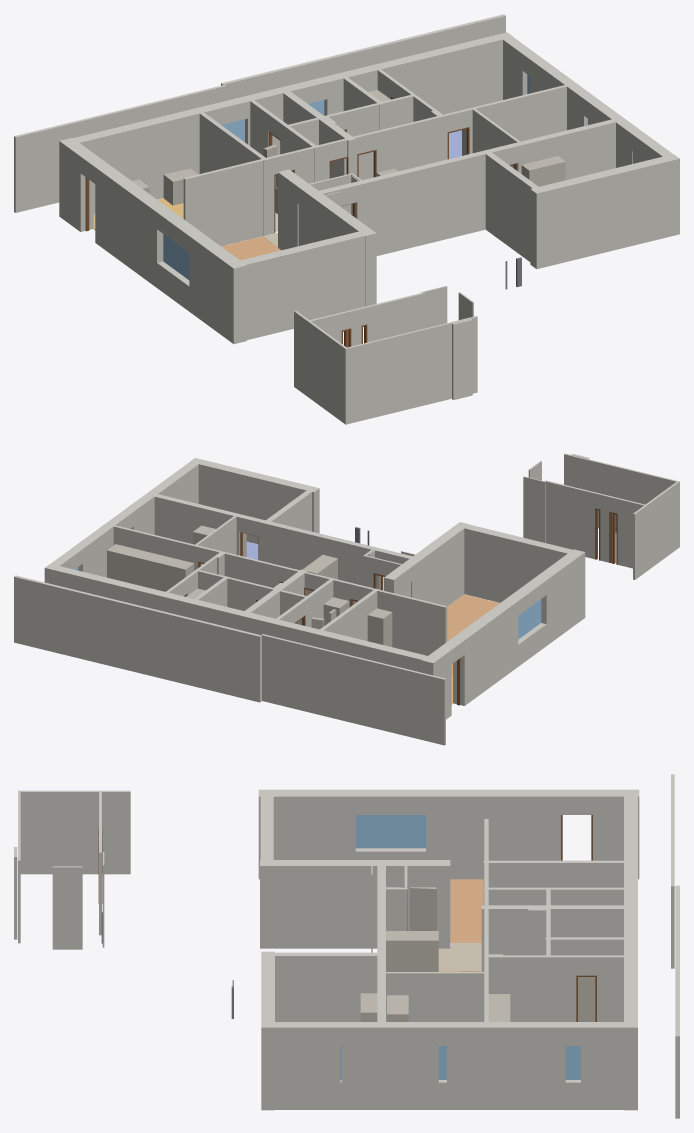
The picture shows the model from 3 angles, top to bottom: view 1: azimuth 30°, elevation 25°; view 2: azimuth 150°, elevation 25°; view 3: azimuth 270°, elevation 25°; orthographic projection. The views are drawn at different scales.
Parts seen in each view (by area): view 1: walls, furniture_12_closet, floor_1_Living_Room, window_9, furniture_19_sink; view 2: walls, furniture_7_closet, floor_1_Living_Room, furniture_5_closet, furniture_8_closet, window_9; view 3: walls, window_9, furniture_8_closet, floor_1_Living_Room, floor_2_Entry, furniture_9_closet, furniture_0_closet, furniture_7_closet, furniture_10_closet, window_10, furniture_12_closet.
Part boxes in pixels (x1,y1,x2,y2): walls: (14,14,679,424); furniture_12_closet: (521,156,565,186); floor_1_Living_Room: (221,236,280,260); window_9: (163,234,189,279); furniture_19_sink: (163,168,197,205); walls: (14,453,679,745); furniture_7_closet: (107,544,194,591); floor_1_Living_Room: (447,594,499,675); furniture_5_closet: (367,608,392,646); furniture_8_closet: (302,554,337,595); window_9: (518,599,541,639); walls: (14,774,679,1118); window_9: (355,815,425,848); furniture_8_closet: (386,931,438,971); floor_1_Living_Room: (450,879,483,942); floor_2_Entry: (438,942,481,971); furniture_9_closet: (410,887,436,930); furniture_0_closet: (578,977,595,1021); furniture_7_closet: (488,994,510,1021); furniture_10_closet: (387,995,408,1021); window_10: (565,1046,580,1079); furniture_12_closet: (360,993,377,1021).
Bounding box in the file's own units: 18.4 × 2.72 × 19.76.
